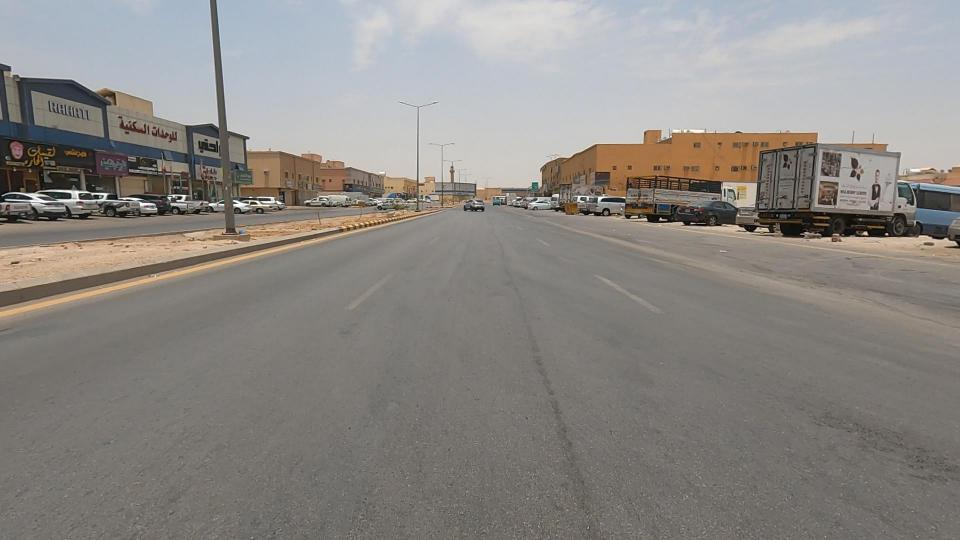CLUTTER_SIDEWALK: (0, 212, 261, 291), (221, 205, 384, 248), (318, 195, 422, 234)
